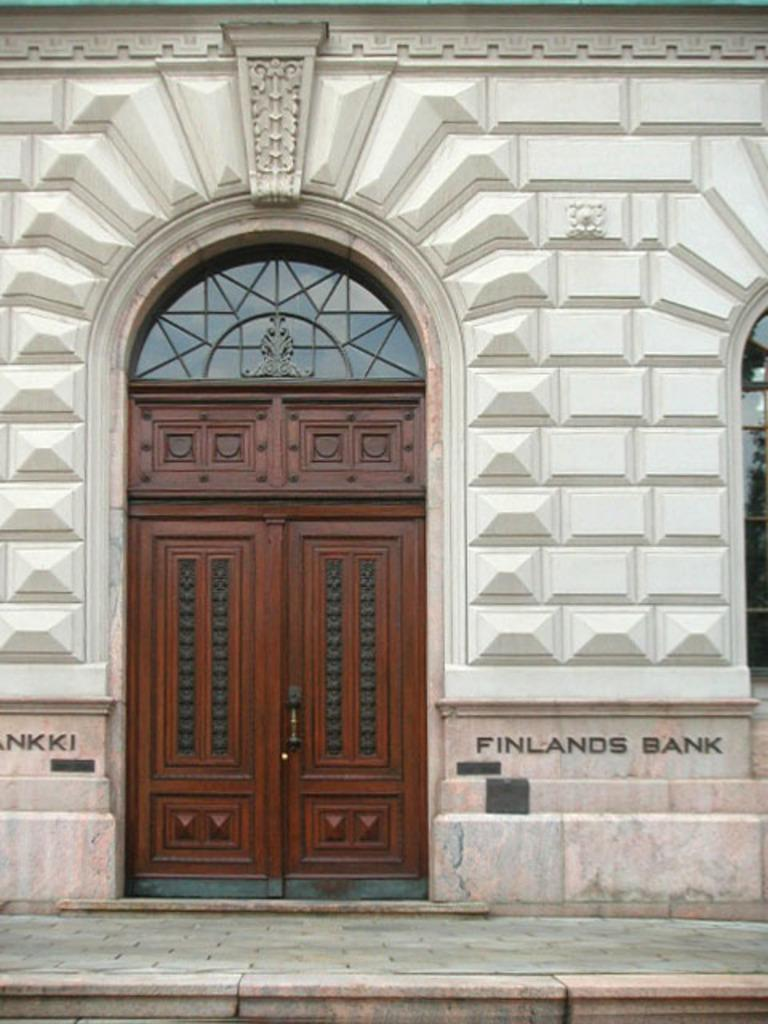handle: (288, 704, 302, 757)
